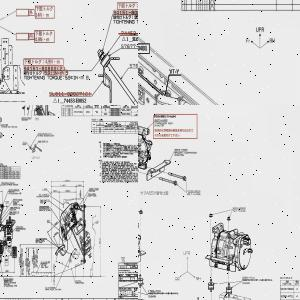PartNumber: (24, 66, 56, 70), (113, 9, 138, 14), (64, 98, 87, 103), (121, 43, 138, 48), (138, 44, 147, 51), (280, 287, 294, 291), (280, 294, 294, 298), (129, 62, 138, 68), (132, 35, 138, 42), (154, 119, 168, 122), (175, 148, 188, 151), (242, 276, 255, 279), (104, 128, 114, 131), (187, 190, 200, 192), (233, 207, 246, 209), (148, 290, 160, 292), (8, 189, 18, 191), (89, 188, 99, 190), (21, 117, 31, 119), (73, 111, 83, 113), (110, 114, 120, 116), (110, 112, 120, 114), (110, 110, 120, 112), (110, 108, 120, 110), (121, 113, 131, 115), (121, 109, 131, 111), (115, 128, 125, 130), (4, 278, 13, 280), (126, 128, 135, 130), (13, 199, 22, 200), (136, 127, 138, 129)
